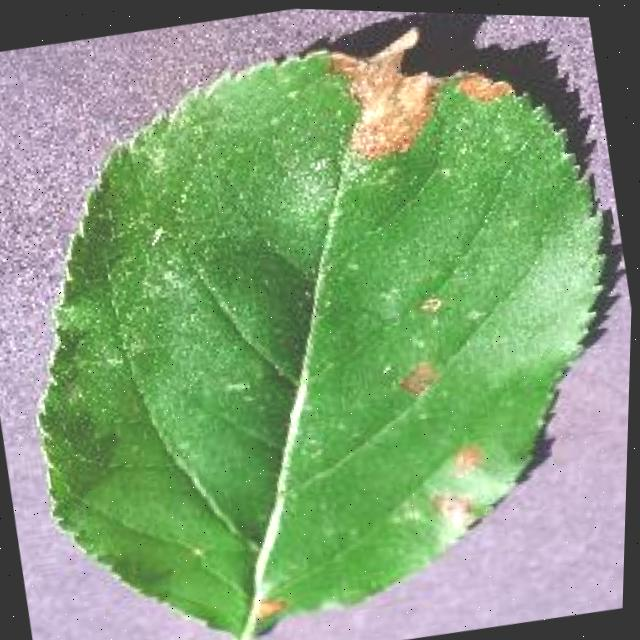black_rot: (302, 12, 449, 181), (445, 47, 525, 115), (401, 481, 489, 539), (372, 346, 444, 412), (444, 430, 495, 481), (239, 587, 291, 628)
